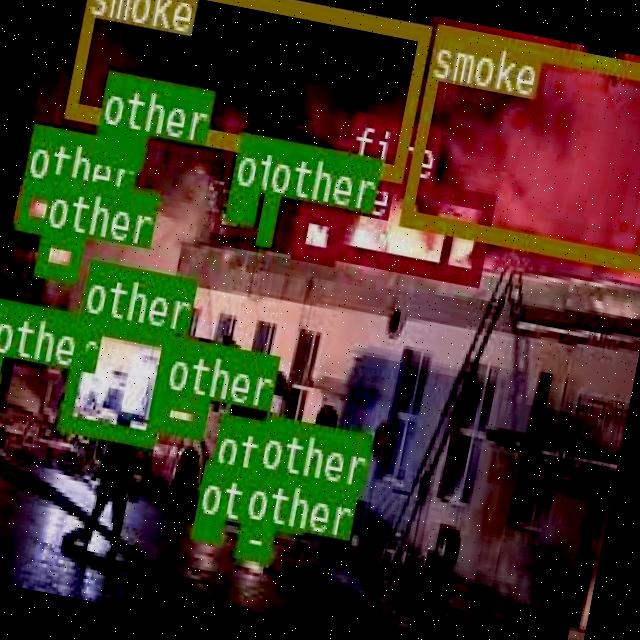fire: (328, 165, 493, 284), (292, 202, 341, 260)
smoke: (63, 0, 430, 179), (398, 22, 640, 268)
